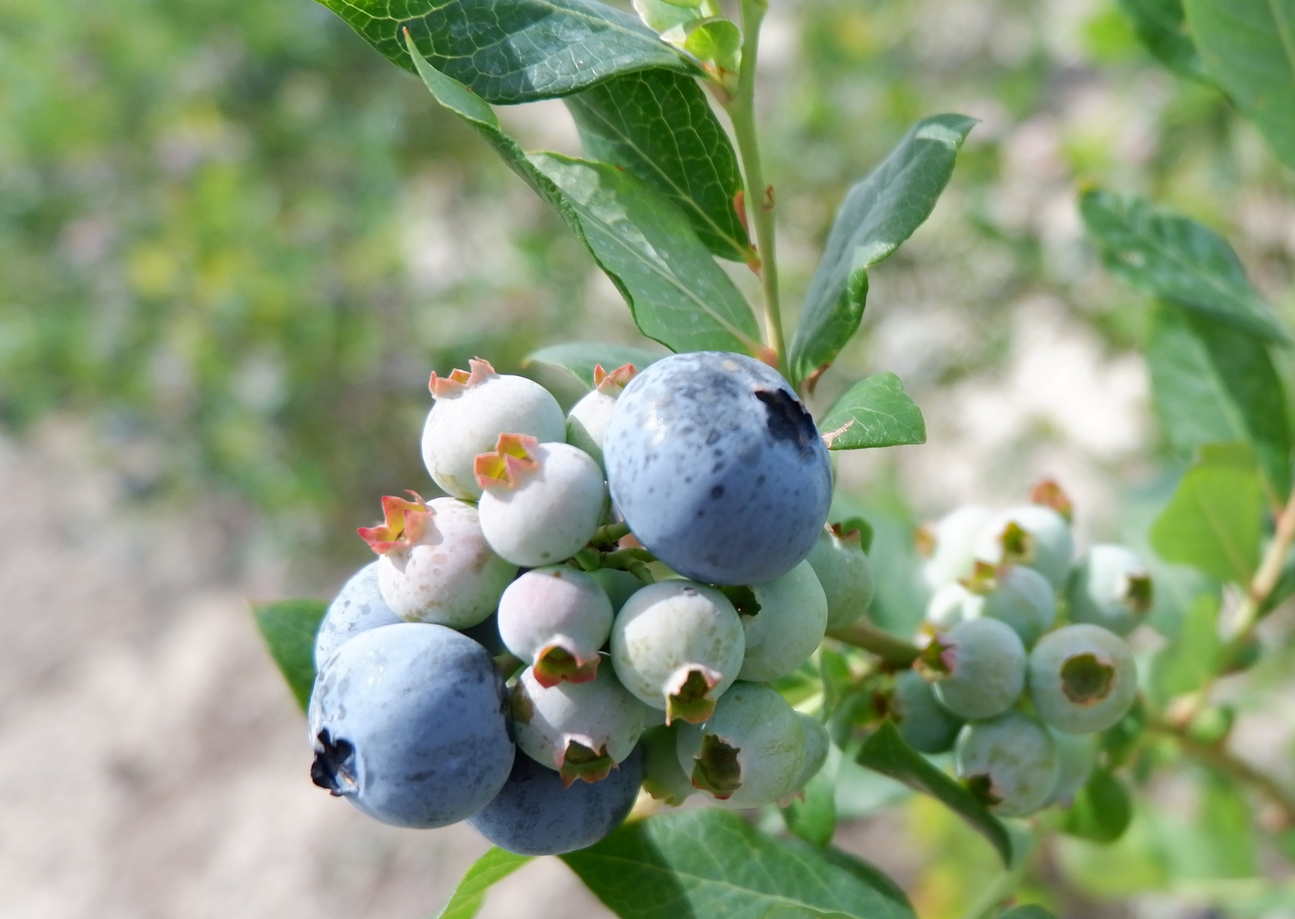Immature: (425, 361, 560, 497), (367, 498, 510, 625), (612, 583, 742, 713), (674, 681, 804, 807), (478, 436, 603, 565), (511, 656, 644, 775), (726, 568, 826, 680), (1030, 629, 1134, 734), (501, 569, 609, 670), (925, 621, 1025, 720), (959, 714, 1054, 816), (960, 560, 1055, 653), (980, 501, 1074, 590), (1069, 548, 1151, 632), (918, 508, 1001, 585), (809, 525, 872, 625), (890, 671, 960, 754), (772, 710, 830, 808), (568, 374, 628, 464), (642, 716, 699, 809), (1045, 724, 1097, 811), (585, 568, 650, 626)
Mature: (607, 360, 831, 582), (310, 624, 509, 826), (474, 741, 641, 854), (317, 567, 400, 666)
